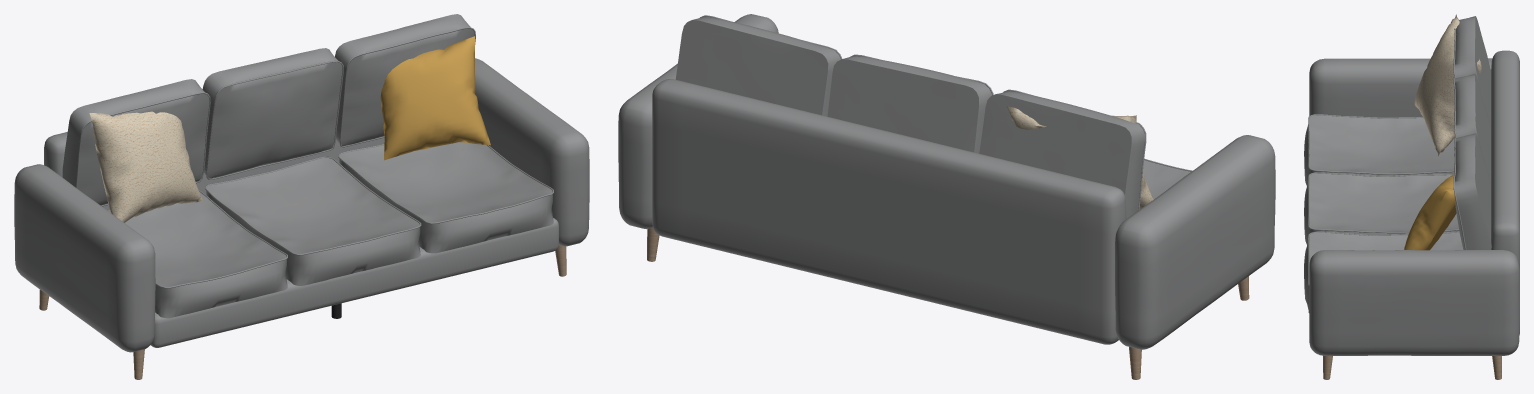
The model's file is sofa.glb.
3 views of the same model, side by side, from view 1: azimuth 30°, elevation 25°; view 2: azimuth 150°, elevation 25°; view 3: azimuth 270°, elevation 25° (orthographic). The views are drawn at different scales.
Parts seen in each view (by area): view 1: sofa; view 2: sofa; view 3: sofa.
Boxes of the visible parts, box(x1,y1,x2,y2) form: sofa: box(14, 14, 589, 379); sofa: box(618, 14, 1275, 379); sofa: box(1304, 14, 1519, 379).
Size of the model in its own units: 2.11 by 0.8897 by 0.9248.
Materials: 5 (2 with a texture image).
